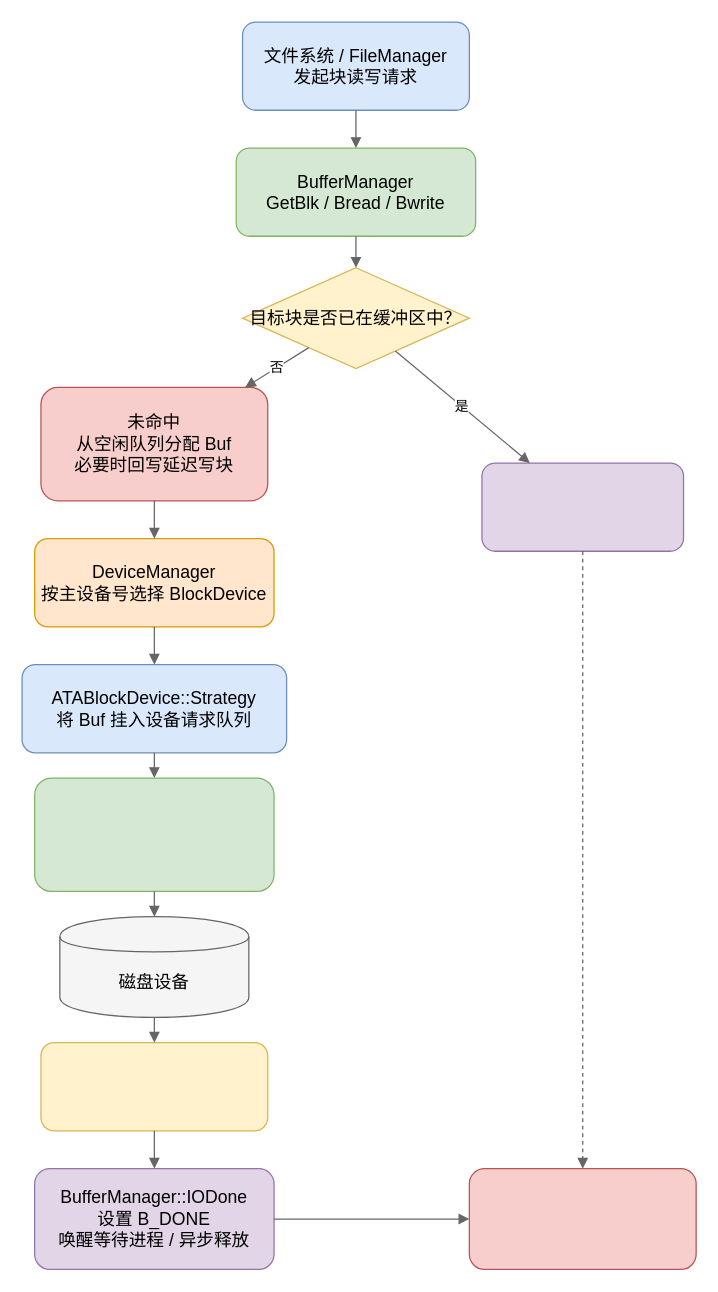
Image size: 718x1292. Some labels were removed from this diagram. Each missing label, with the centre of its shape:
"ATADriver::DevStart 设置 ATA 寄存器 / DMA 向磁盘发起 I/O" belongs at pixel 153 834.
"上层继续处理 读请求获得数据 写请求结束或延迟写回" belongs at pixel 582 1218.
"命中缓冲区 直接返回 Buf" belongs at pixel 582 506.
"磁盘中断 ATADriver::ATAHandler" belongs at pixel 154 1086.
